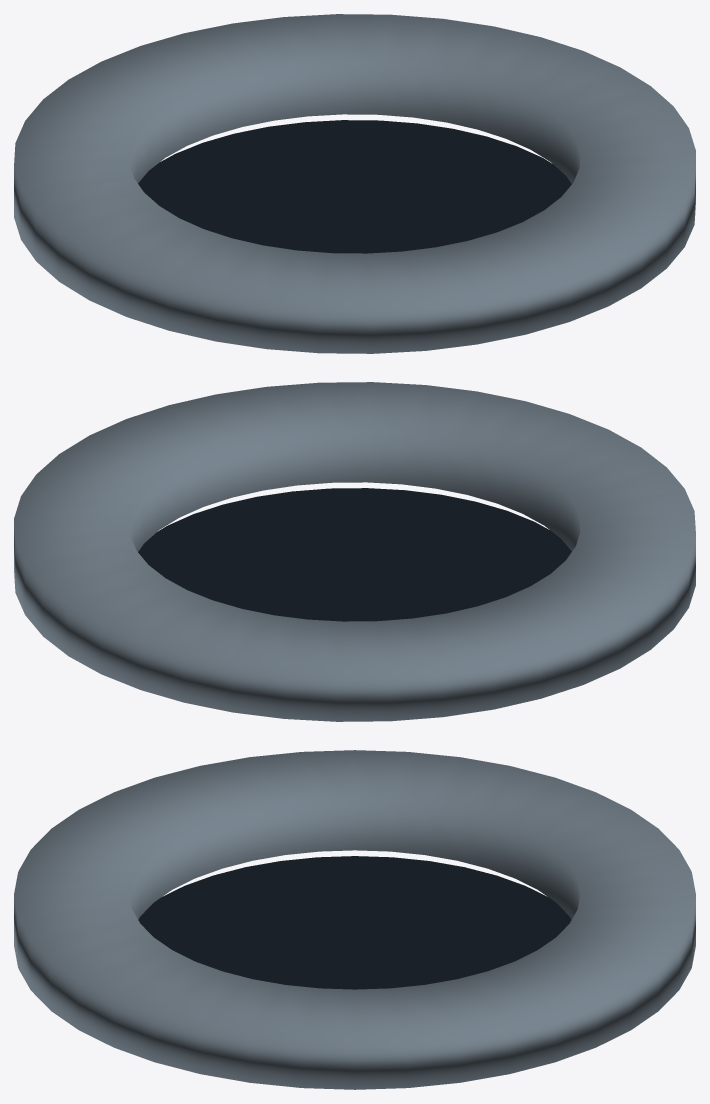
File: rassvet.axial_hatch_b.glb
The picture shows the model from 3 angles, top to bottom: view 1: azimuth 30°, elevation 25°; view 2: azimuth 150°, elevation 25°; view 3: azimuth 270°, elevation 25°; orthographic projection.
Visible parts, largest first — view 1: rassvet.axial_hatch_b.mesh_Machined_steel, rassvet.axial_hatch_b.mesh_Shadowed_interior; view 2: rassvet.axial_hatch_b.mesh_Machined_steel, rassvet.axial_hatch_b.mesh_Shadowed_interior; view 3: rassvet.axial_hatch_b.mesh_Machined_steel, rassvet.axial_hatch_b.mesh_Shadowed_interior.
Part boxes in pixels (<box>): rassvet.axial_hatch_b.mesh_Machined_steel: <box>14,14,695,353</box>; rassvet.axial_hatch_b.mesh_Shadowed_interior: <box>138,120,571,253</box>; rassvet.axial_hatch_b.mesh_Machined_steel: <box>14,382,695,721</box>; rassvet.axial_hatch_b.mesh_Shadowed_interior: <box>138,488,571,621</box>; rassvet.axial_hatch_b.mesh_Machined_steel: <box>14,750,695,1089</box>; rassvet.axial_hatch_b.mesh_Shadowed_interior: <box>138,856,571,989</box>.
Bounding box in the file's own units: 1.56 × 0.22 × 1.56.
